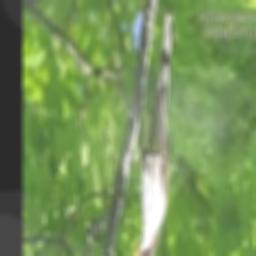Cuckoo: (135, 14, 174, 256)
